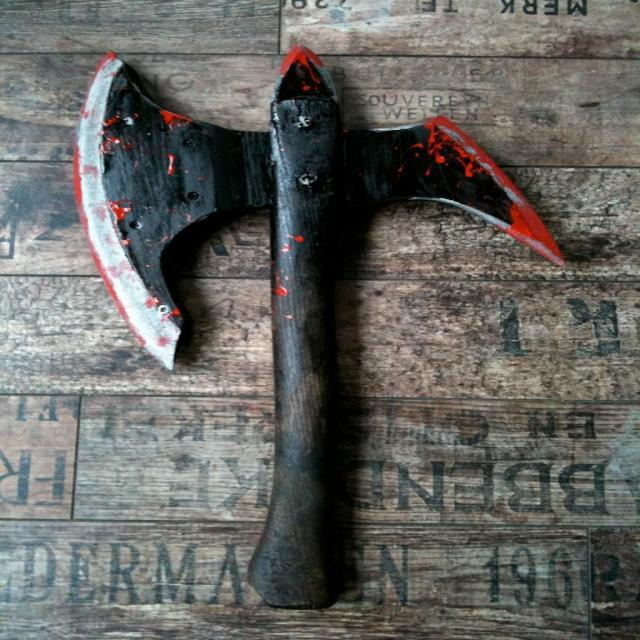Axe: (76, 48, 562, 607)
